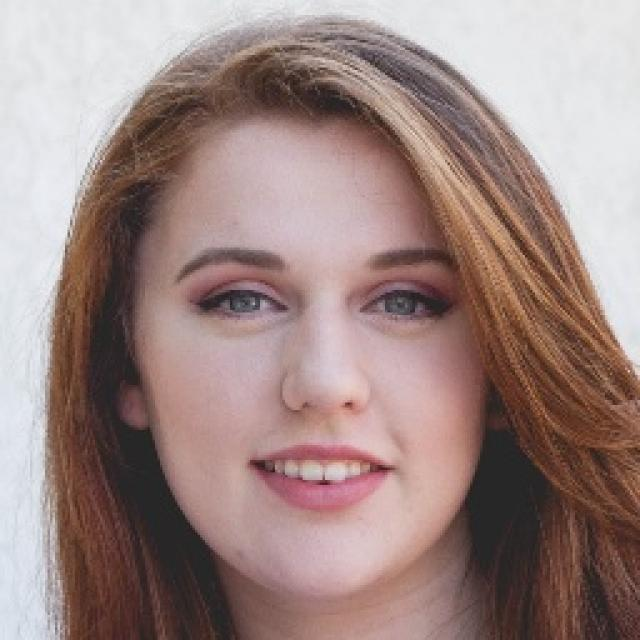earlobe: (111, 380, 155, 431), (483, 396, 518, 436)
eye: (190, 281, 290, 323), (365, 284, 449, 325)
nose: (282, 394, 370, 436)
